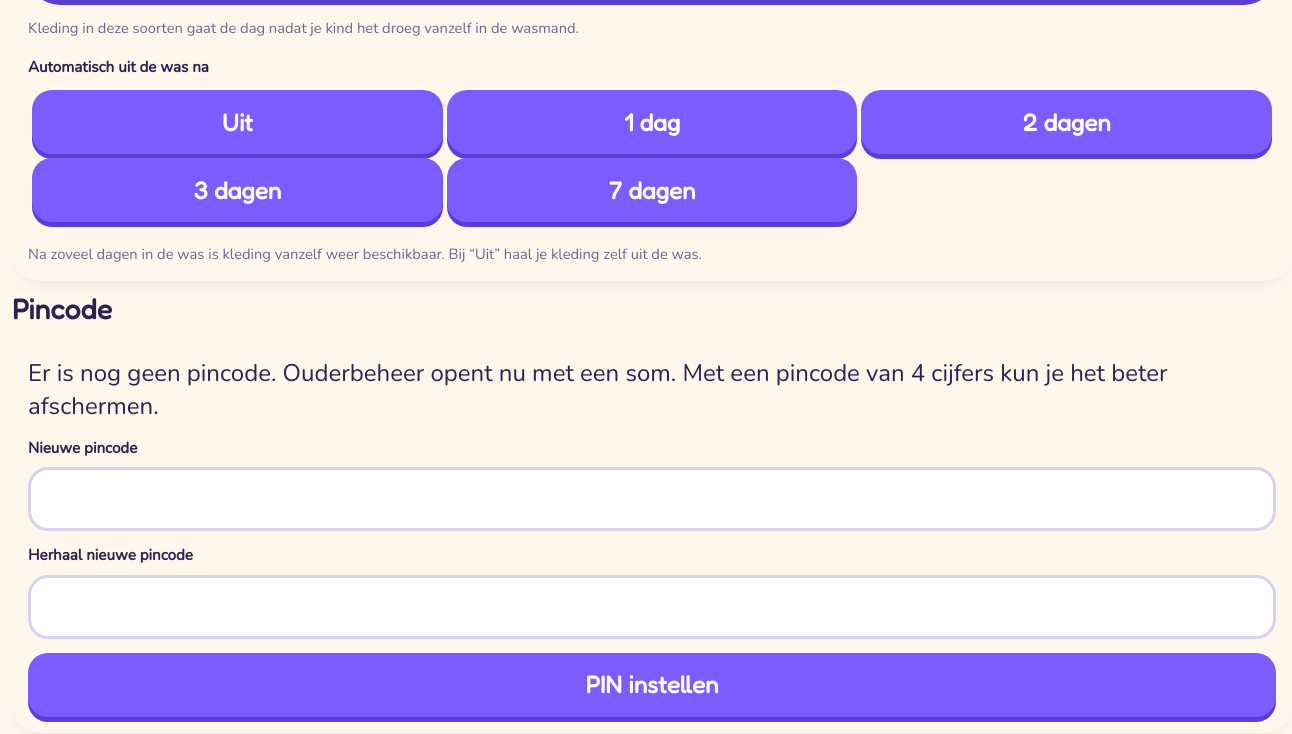
Test: pincode instellen › meldt het als opslaan mislukt
(page scrolled)
Expected: the button "PIN instellen" is shown, [28,653,1276,717]
Type "1357" into the password field labelled "Nieuwe pincode" at (652,499), box [28,467,1276,531]
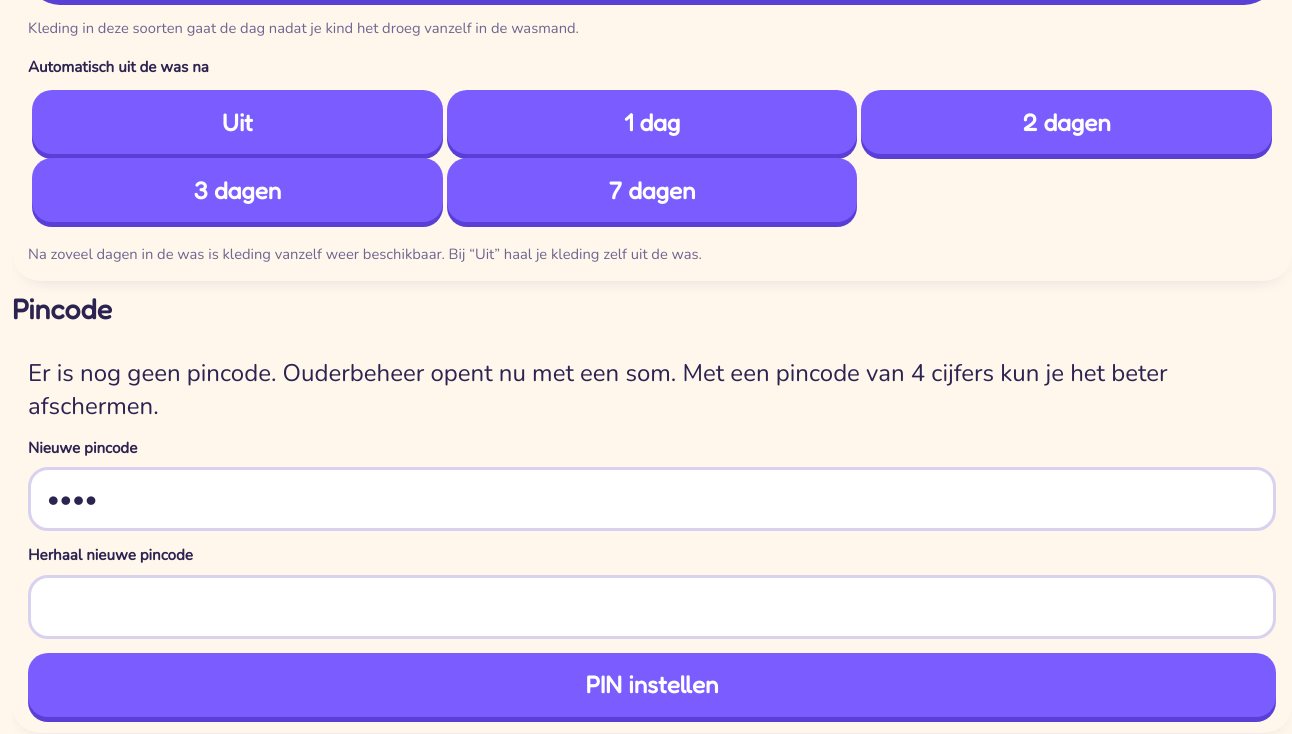
Type "1357" into the password field labelled "Herhaal nieuwe pincode" at (652,607), box [28,575,1276,639]
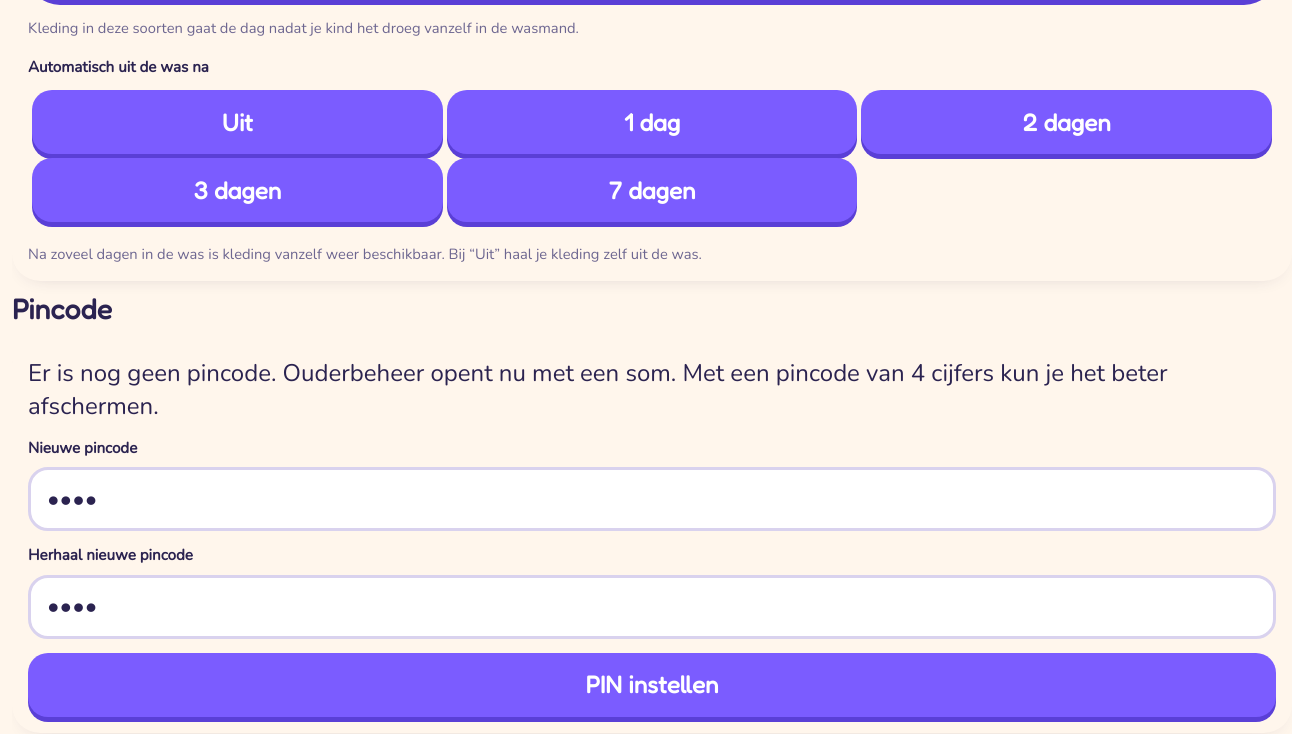
Click the button "PIN instellen" at (652,685), box [28,653,1276,717]
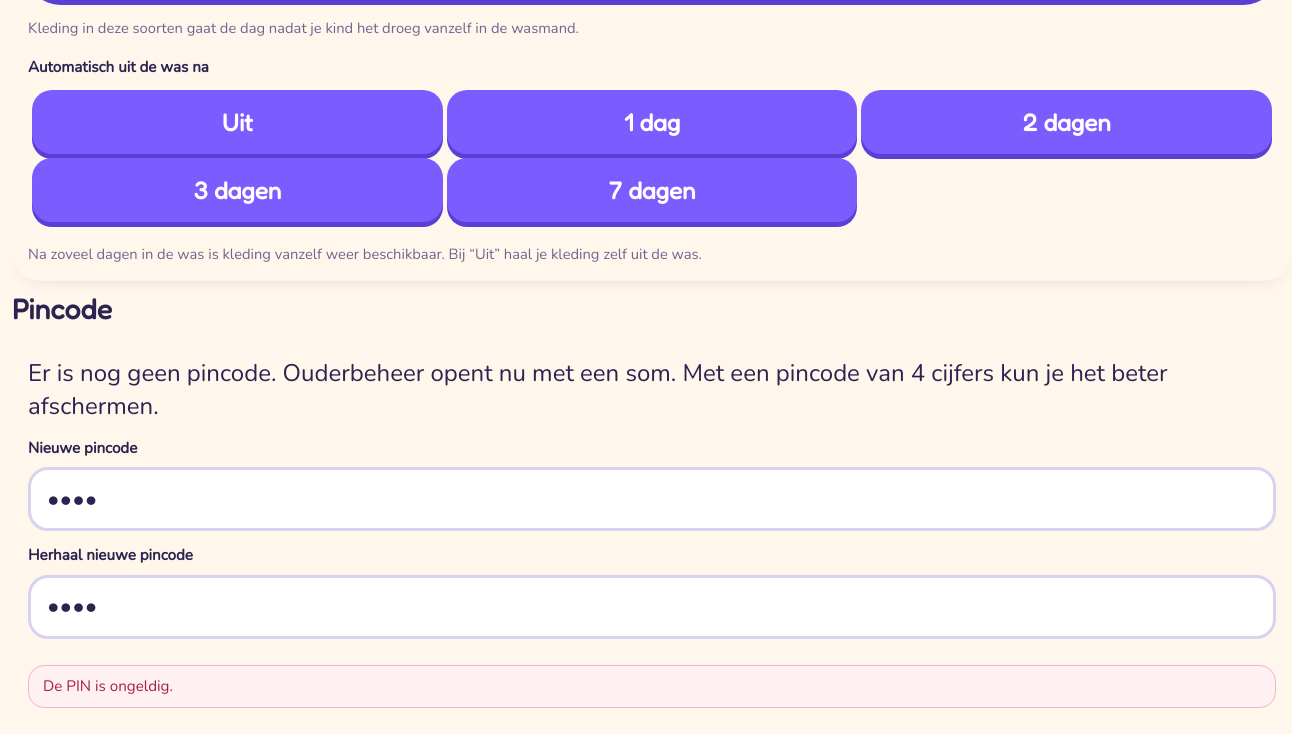
Expected: the message reads "De PIN is ongeldig.", [43,676,173,696]
